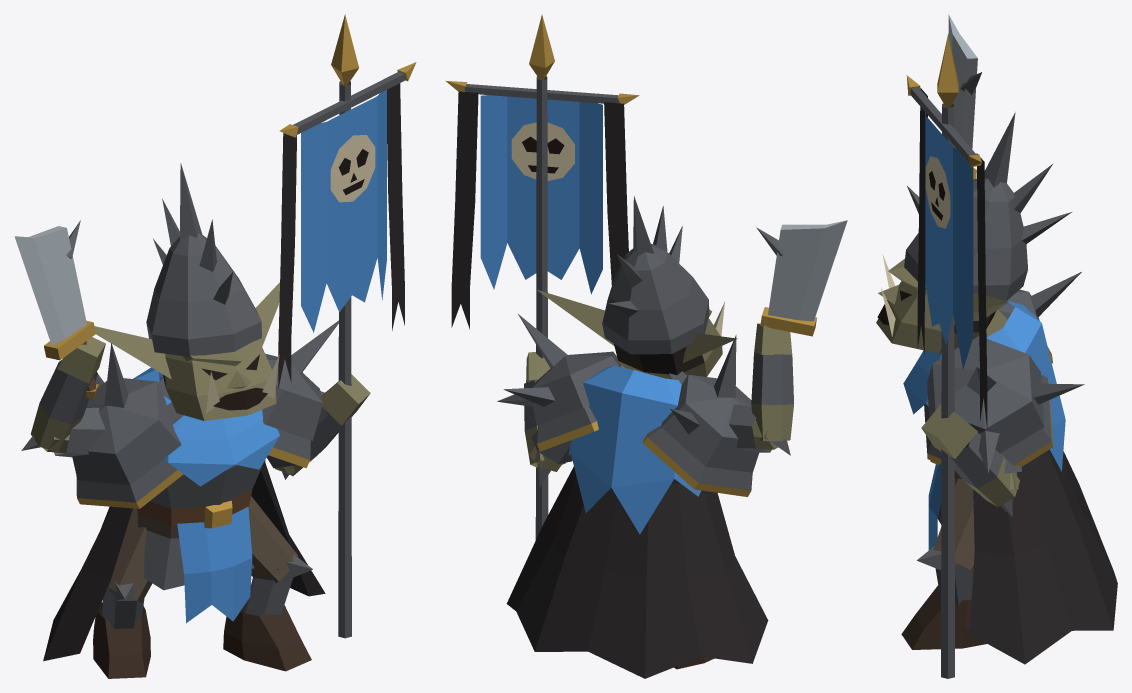
The model's file is gothmog-3.glb.
3 renders of one model, left to right at view 1: azimuth 30°, elevation 25°; view 2: azimuth 150°, elevation 25°; view 3: azimuth 270°, elevation 25°, orthographic. The views are drawn at different scales.
Visible parts, largest first — view 1: gothmog-3; view 2: gothmog-3; view 3: gothmog-3.
Boxes of the visible parts, x1,y1,x2,y2 form: gothmog-3: (14,14,416,678); gothmog-3: (445,14,847,678); gothmog-3: (876,14,1117,678).
Size of the model in its own units: 1.59 by 2.25 by 0.7687.
